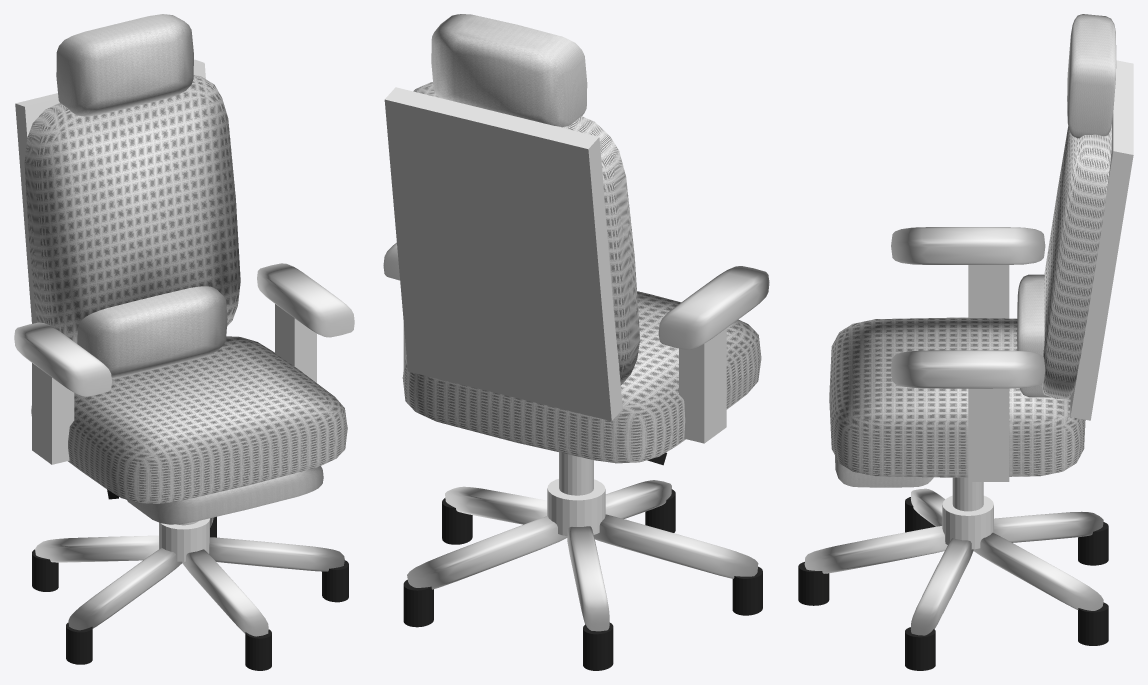
3 views of the same model, side by side, from view 1: azimuth 30°, elevation 25°; view 2: azimuth 150°, elevation 25°; view 3: azimuth 270°, elevation 25° (orthographic). The views are drawn at different scales.
Parts seen in each view (by area): view 1: 16 backrest, 13 seat, 19 headrest, 18 lumbar_pillow, 14 footrest, 22 right_armrest_pad, 20 left_armrest_pad, 21 left_armrest_support, 4 base_spoke_front_right, 7 base_spoke_front_left, 3 base_spoke_front, 6 base_spoke_back_left (+7 smaller); view 2: 17 backrest_shell, 13 seat, 19 headrest, 16 backrest, 20 left_armrest_pad, 7 base_spoke_front_left, 5 base_spoke_back_right, 21 left_armrest_support, 6 base_spoke_back_left, 4 base_spoke_front_right, 2 base_hub, 3 base_spoke_front (+6 smaller); view 3: 13 seat, 16 backrest, 17 backrest_shell, 22 right_armrest_pad, 20 left_armrest_pad, 19 headrest, 23 right_armrest_support, 3 base_spoke_front, 5 base_spoke_back_right, 4 base_spoke_front_right, 6 base_spoke_back_left, 18 lumbar_pillow (+10 smaller).
Part boxes in pixels (box(x1,y1,x2,y2)): 16 backrest: box(24, 75, 240, 343); 13 seat: box(31, 336, 347, 503); 19 headrest: box(56, 14, 193, 116); 18 lumbar_pillow: box(77, 286, 227, 378); 14 footrest: box(127, 466, 323, 524); 22 right_armrest_pad: box(257, 263, 354, 337); 20 left_armrest_pad: box(14, 322, 111, 396); 21 left_armrest_support: box(32, 363, 74, 464); 4 base_spoke_front_right: box(209, 537, 344, 571); 7 base_spoke_front_left: box(68, 548, 182, 630); 3 base_spoke_front: box(182, 549, 268, 636); 6 base_spoke_back_left: box(35, 535, 158, 562); 17 backrest_shell: box(384, 87, 622, 421); 13 seat: box(402, 291, 761, 463); 19 headrest: box(431, 14, 587, 126); 16 backrest: box(413, 82, 640, 385); 20 left_armrest_pad: box(658, 266, 769, 349); 7 base_spoke_front_left: box(593, 514, 758, 578); 5 base_spoke_back_right: box(407, 516, 566, 589); 21 left_armrest_support: box(679, 328, 726, 443); 6 base_spoke_back_left: box(567, 526, 609, 631); 4 base_spoke_front_right: box(445, 486, 547, 524); 2 base_hub: box(547, 479, 605, 536); 3 base_spoke_front: box(605, 480, 671, 518); 13 seat: box(829, 317, 1085, 477); 16 backrest: box(1041, 124, 1111, 399); 17 backrest_shell: box(1070, 60, 1133, 420); 22 right_armrest_pad: box(891, 350, 1045, 388); 20 left_armrest_pad: box(891, 227, 1045, 264); 19 headrest: box(1067, 14, 1116, 138); 23 right_armrest_support: box(968, 388, 1009, 481); 3 base_spoke_front: box(804, 526, 947, 573); 5 base_spoke_back_right: box(973, 532, 1103, 610); 4 base_spoke_front_right: box(910, 538, 973, 635); 6 base_spoke_back_left: box(994, 511, 1103, 542); 18 lumbar_pillow: box(1017, 274, 1050, 397).
Size of the model in its own units: 0.54 by 1 by 0.54.
7 materials, 3 textured.
